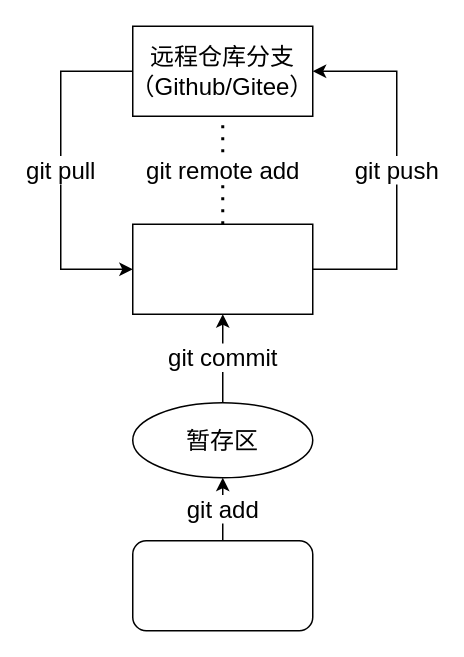
Image size: 464x657. Some labels were removed from this diagram. Here are the shapes that lost their labels. From the top down, the centre of each, then its label:
At (x=222, y=268): "本地仓库分支".
At (x=222, y=585): "工作区 （git init）".
